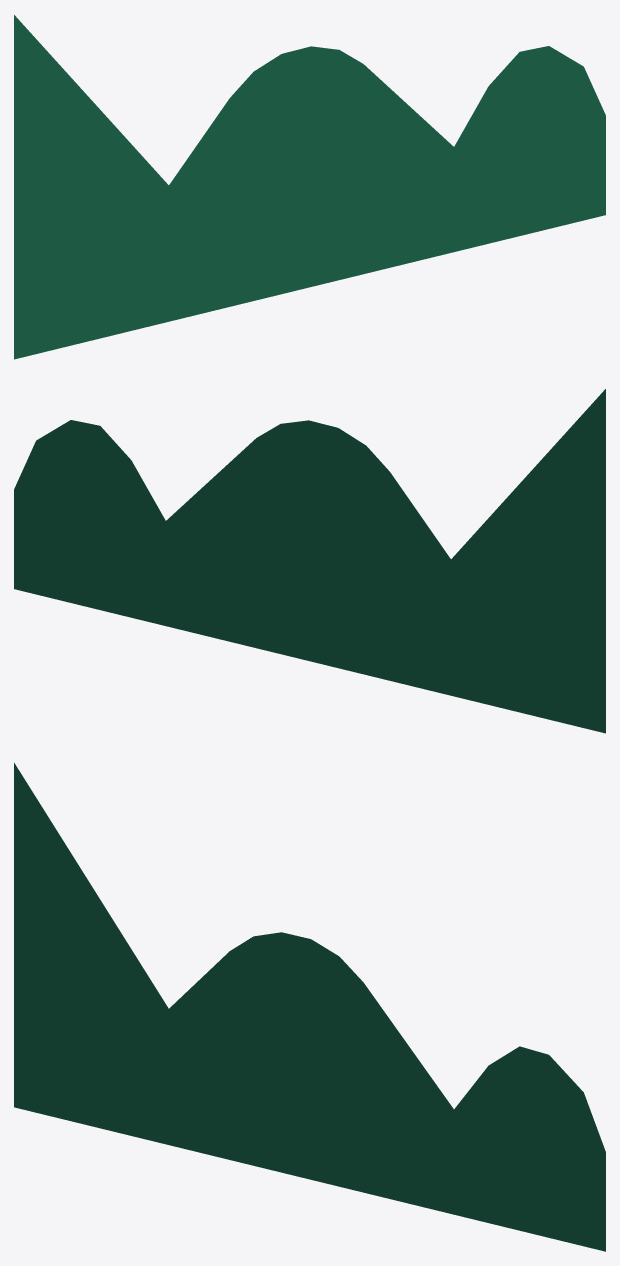
The model's file is GramaFloresta01.fbx.
The picture shows the model from 3 angles, top to bottom: view 1: azimuth 30°, elevation 25°; view 2: azimuth 150°, elevation 25°; view 3: azimuth 330°, elevation 25°; orthographic projection.
Parts seen in each view (by area): view 1: Plane; view 2: Plane; view 3: Plane.
Part boxes in pixels (bbox=[...]): Plane: bbox=[14, 15, 605, 359]; Plane: bbox=[14, 389, 605, 733]; Plane: bbox=[14, 762, 605, 1251].
Bounding box in the file's own units: 345 × 192 × 3.13e-05.
